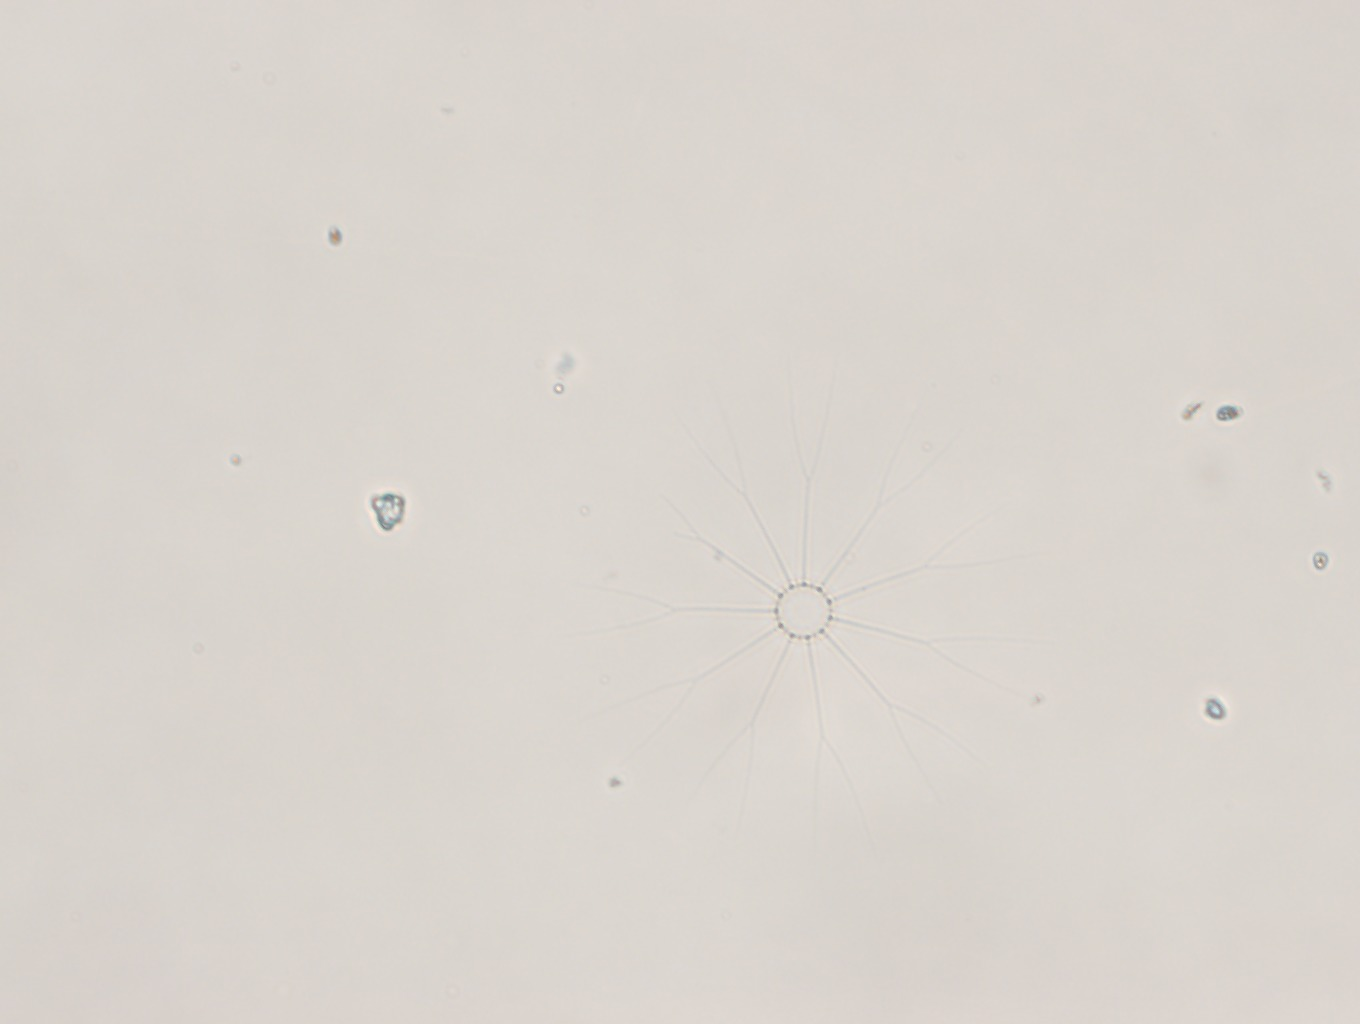bacteriastrum: (631, 394, 1023, 825)
